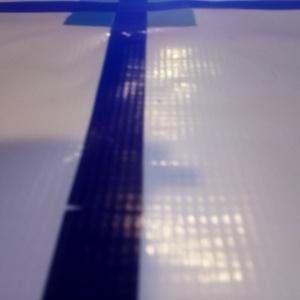bottom_left: (63, 1, 147, 25)
bottom_right: (114, 1, 196, 27)
